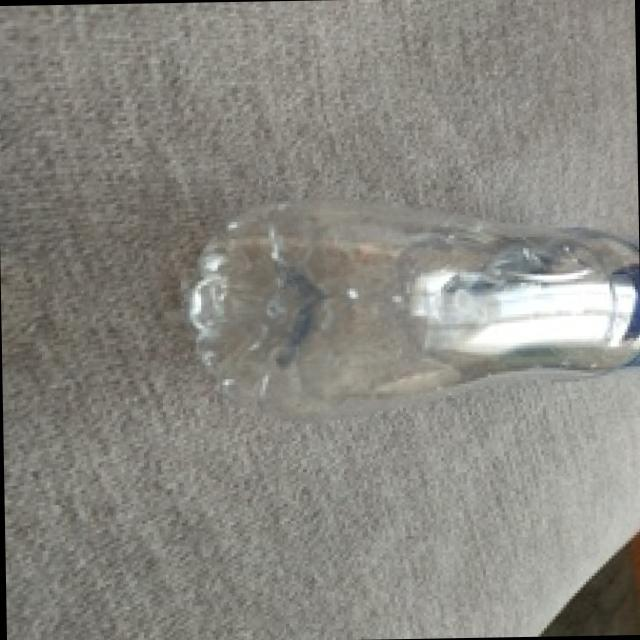good: (161, 172, 640, 417)
